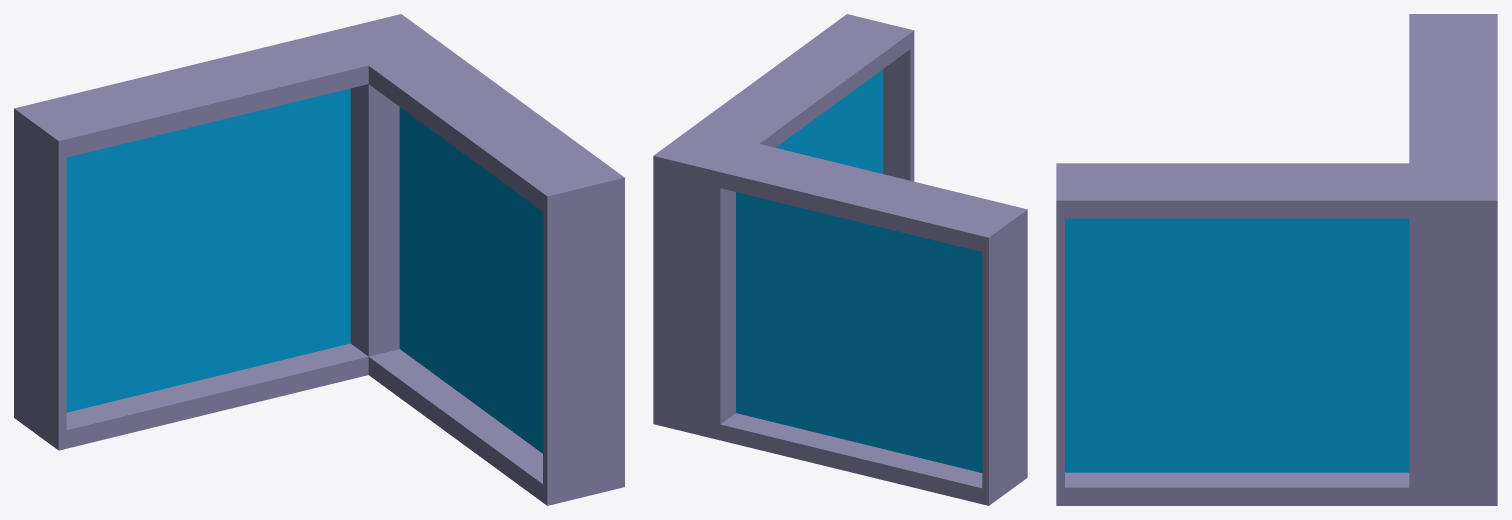
File: GlassWallCorner.fbx
The picture shows the model from 3 angles, left to right: view 1: azimuth 30°, elevation 25°; view 2: azimuth 150°, elevation 25°; view 3: azimuth 270°, elevation 25°; orthographic projection. The views are drawn at different scales.
Parts seen in each view (by area): view 1: WallCorner; view 2: WallCorner; view 3: WallCorner.
Part boxes in pixels (x1,y1,x2,y2): WallCorner: (14, 14, 624, 505); WallCorner: (653, 14, 1027, 505); WallCorner: (1056, 14, 1497, 505).
Size of the model in its own units: 600 by 458 by 600.
